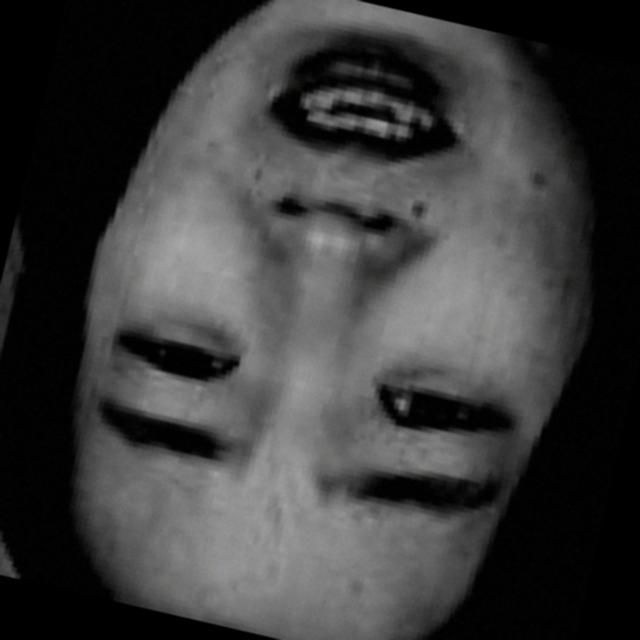fear: (20, 0, 601, 640)
